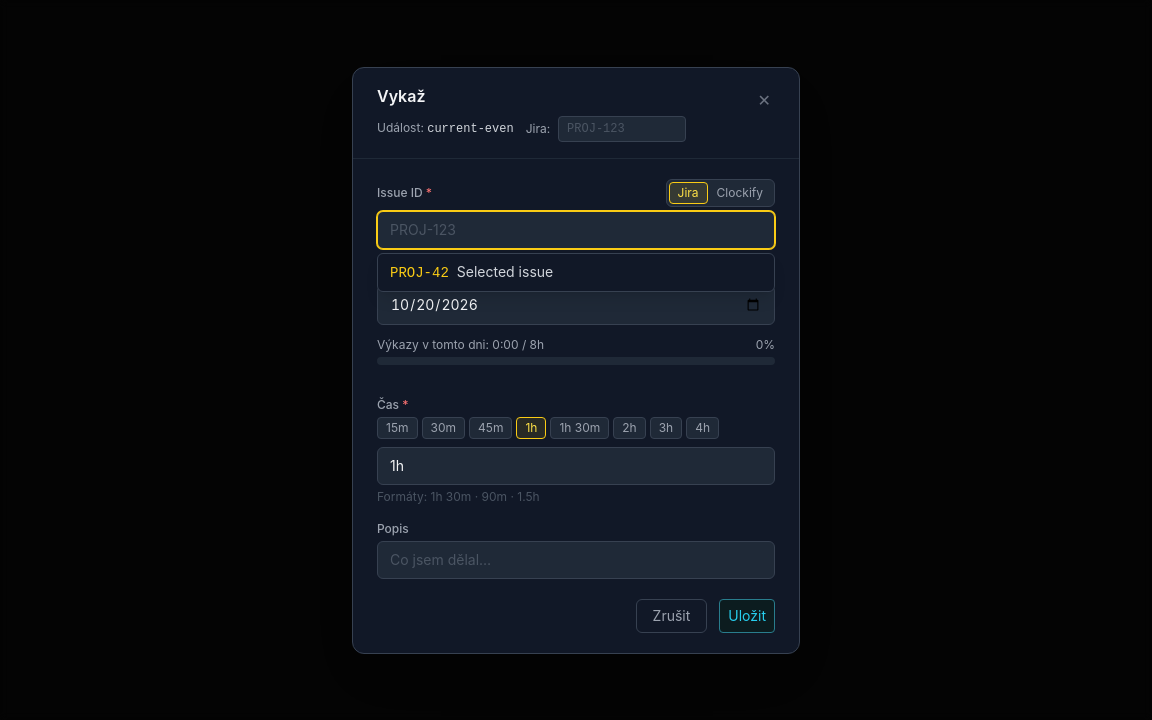
calendar binding header › does not save a binding when project verification fails
Type "PROJ-7" into the field labelled "Jira:" at (622, 128), box [558,116,686,142]
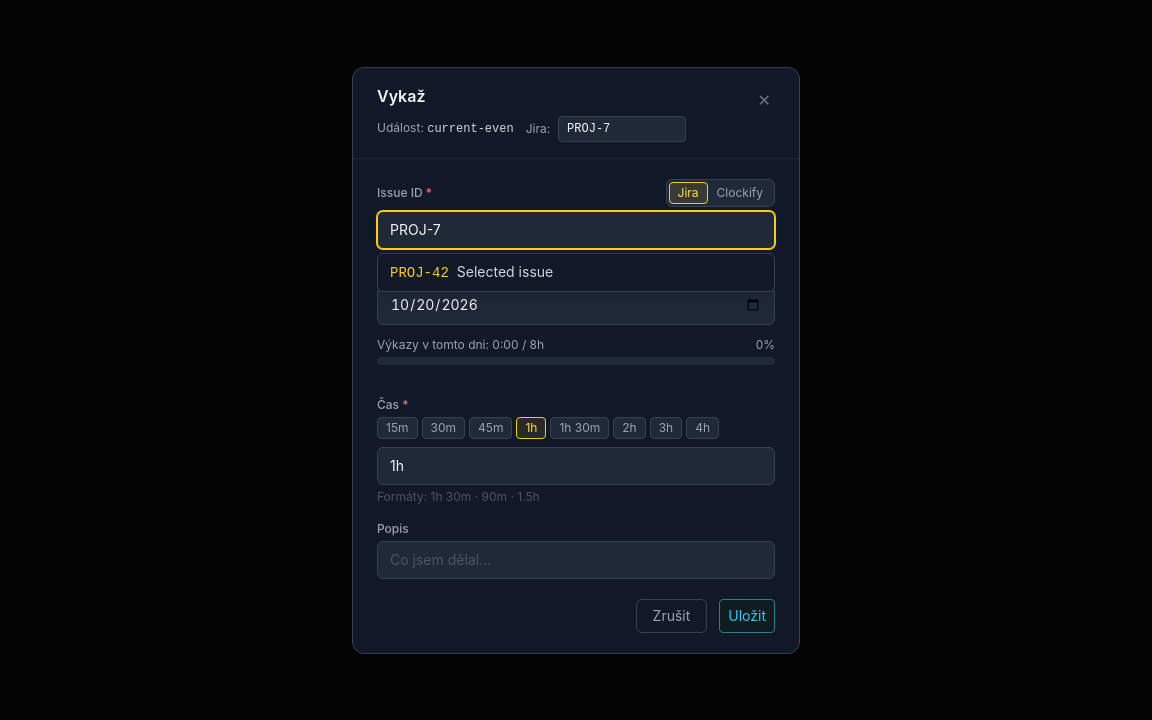
Click the button "Uložit" at (747, 616), box [719,598,775,632]
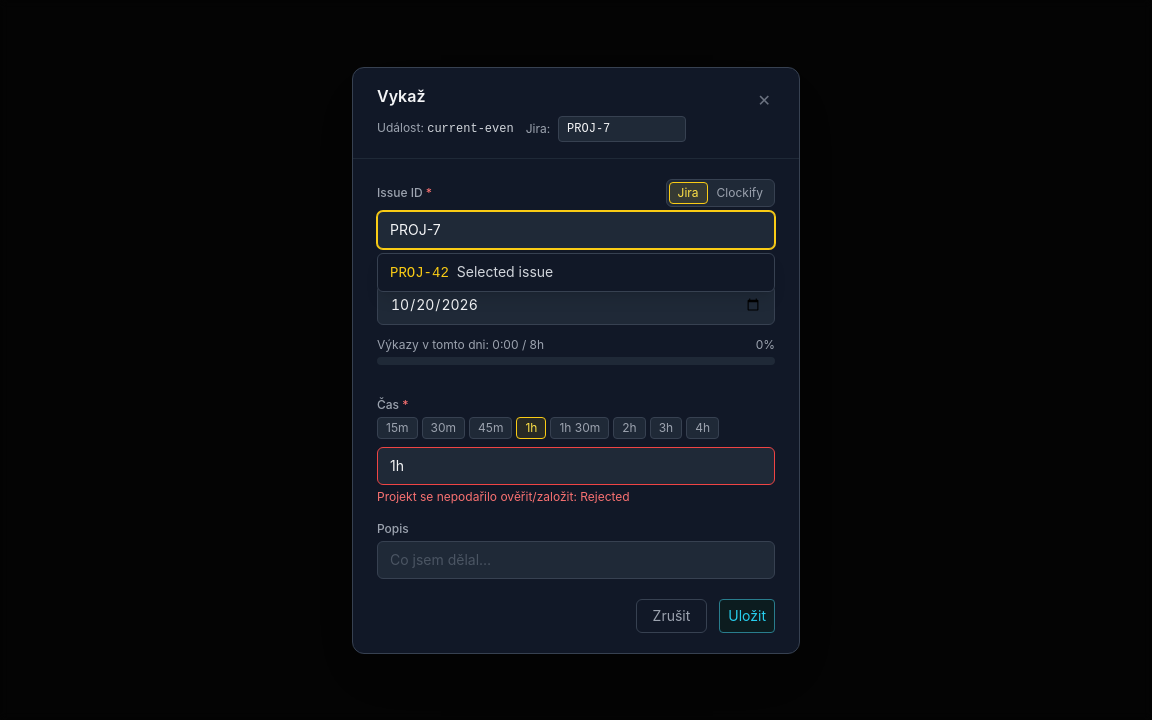
Expected: the message "Projekt se nepodařilo ověřit/založit: Rejected" is shown, [377,488,630,504]
